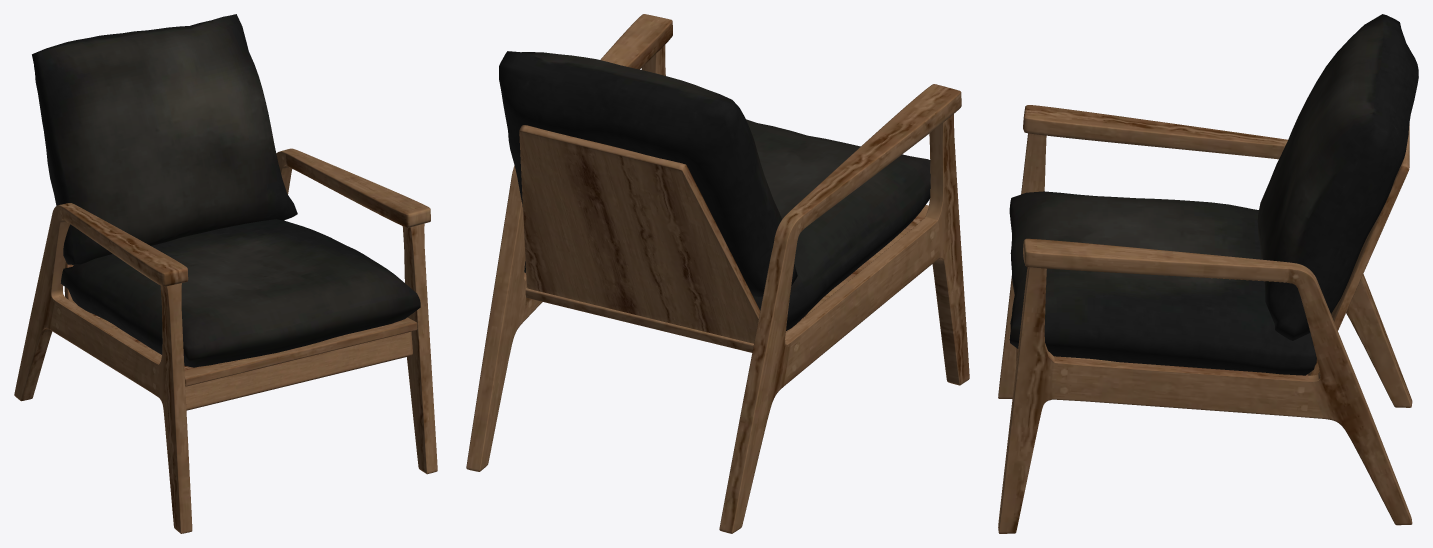
The model's file is modern_arm_chair_01.gltf.
3 renders of one model, left to right at view 1: azimuth 30°, elevation 25°; view 2: azimuth 150°, elevation 25°; view 3: azimuth 270°, elevation 25°, orthographic. The views are drawn at different scales.
Visible parts, largest first — view 1: modern_arm_chair_01; view 2: modern_arm_chair_01; view 3: modern_arm_chair_01.
Part boxes in pixels (x1,y1,x2,y2): modern_arm_chair_01: (14, 14, 437, 533); modern_arm_chair_01: (466, 14, 969, 533); modern_arm_chair_01: (998, 14, 1418, 533).
Size of the model in its own units: 0.8203 by 1.02 by 0.9866.
Materials: 2 (2 with a texture image).
